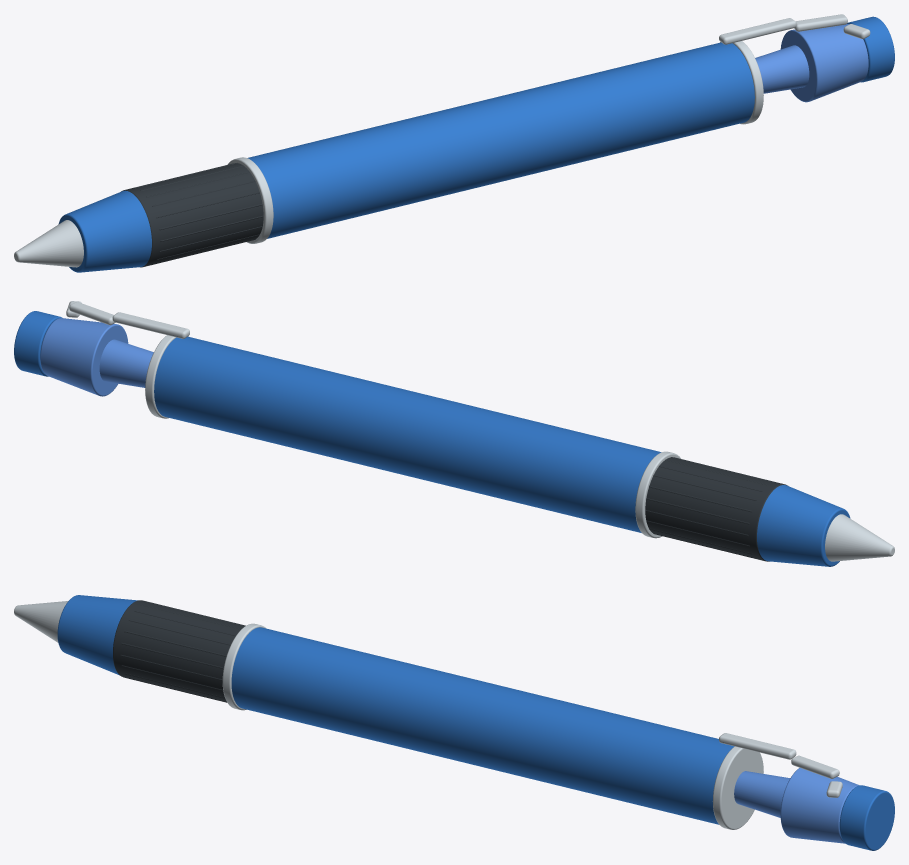
The model's file is lapicero.glb.
The picture shows the model from 3 angles, top to bottom: view 1: azimuth 30°, elevation 25°; view 2: azimuth 150°, elevation 25°; view 3: azimuth 330°, elevation 25°; orthographic projection.
Visible parts, largest first — view 1: Barril principal, Agarre estriado, Cono frontal, Tapa trasera, Punta cónica de escritura, Émbolo del pulsador, Corona pulsable, Banda frontal, Clip · tramo recto, Banda trasera, Clip · curva; view 2: Barril principal, Agarre estriado, Cono frontal, Tapa trasera, Punta cónica de escritura, Émbolo del pulsador, Corona pulsable, Banda frontal, Clip · tramo recto, Banda trasera; view 3: Barril principal, Agarre estriado, Tapa trasera, Cono frontal, Corona pulsable, Banda trasera, Émbolo del pulsador, Punta cónica de escritura, Banda frontal, Clip · tramo recto, Clip · curva.
Boxes of the visible parts, bbox=[...] form: Barril principal: bbox=[247, 42, 754, 238]; Agarre estriado: bbox=[121, 163, 263, 267]; Cono frontal: bbox=[58, 190, 151, 272]; Tapa trasera: bbox=[780, 24, 868, 102]; Punta cónica de escritura: bbox=[14, 220, 83, 267]; Émbolo del pulsador: bbox=[755, 45, 809, 93]; Corona pulsable: bbox=[847, 16, 894, 82]; Banda frontal: bbox=[227, 157, 273, 243]; Clip · tramo recto: bbox=[719, 18, 796, 44]; Banda trasera: bbox=[720, 41, 763, 124]; Clip · curva: bbox=[794, 14, 847, 31]; Barril principal: bbox=[154, 336, 661, 532]; Agarre estriado: bbox=[645, 457, 787, 561]; Cono frontal: bbox=[757, 485, 850, 566]; Tapa trasera: bbox=[40, 318, 128, 396]; Punta cónica de escritura: bbox=[825, 514, 894, 561]; Émbolo del pulsador: bbox=[99, 339, 153, 387]; Corona pulsable: bbox=[14, 311, 62, 376]; Banda frontal: bbox=[635, 451, 680, 538]; Clip · tramo recto: bbox=[112, 312, 189, 338]; Banda trasera: bbox=[145, 335, 188, 418]; Barril principal: bbox=[231, 627, 734, 824]; Agarre estriado: bbox=[113, 600, 245, 701]; Tapa trasera: bbox=[780, 768, 859, 843]; Cono frontal: bbox=[57, 595, 137, 675]; Corona pulsable: bbox=[839, 785, 894, 850]; Banda trasera: bbox=[712, 746, 763, 829]; Émbolo del pulsador: bbox=[734, 771, 790, 817]; Punta cónica de escritura: bbox=[14, 601, 68, 642]; Banda frontal: bbox=[222, 623, 266, 710]; Clip · tramo recto: bbox=[719, 733, 796, 759]; Clip · curva: bbox=[791, 755, 839, 778].
Size of the model in its own units: 201 by 19.6 by 17.6.
